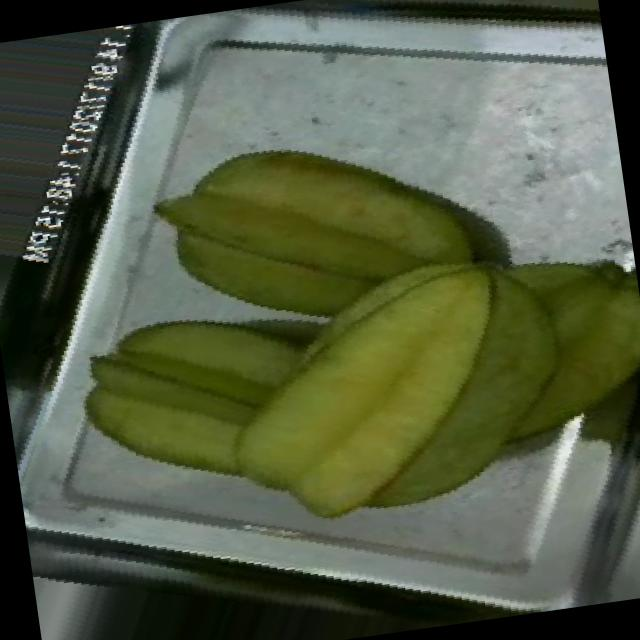fruit: (183, 186, 588, 581), (117, 72, 524, 378), (41, 252, 363, 524)
